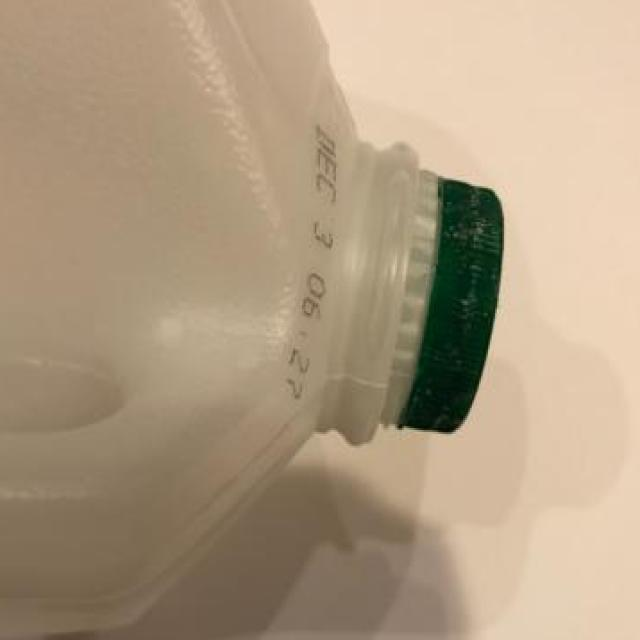organic: (4, 7, 537, 616)
